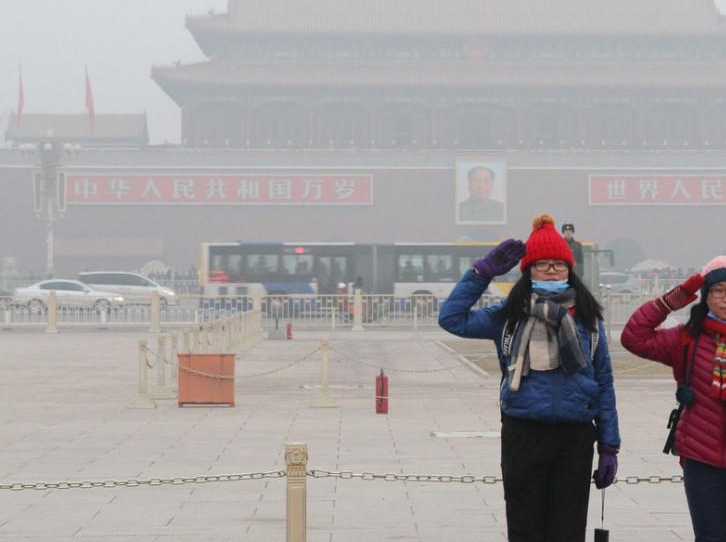bus: (196, 238, 615, 317)
car: (74, 268, 179, 313), (12, 277, 125, 315), (593, 270, 641, 304)
person: (437, 211, 621, 542), (618, 252, 726, 542), (555, 222, 585, 315), (332, 281, 356, 319), (353, 275, 370, 321)
